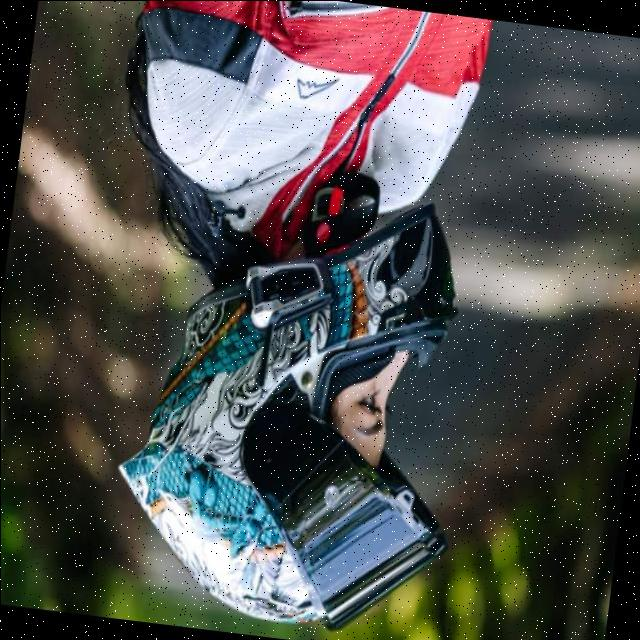helmet: (109, 196, 458, 634)
